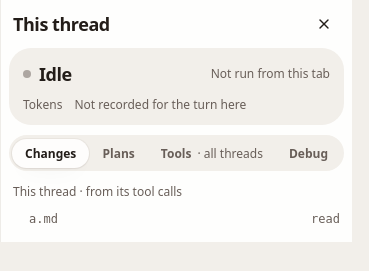
Test: the instrument and approvals › says why the tool metrics are empty on a thread that has run tools
Click the tab "Tools · all threads" at (212, 153), box [148,139,276,168]
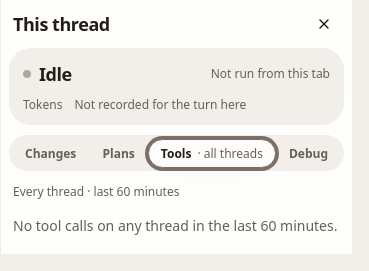
Expected: the text "No tool calls on any thread in the last 60 minutes." is shown, [13,216,338,235]
